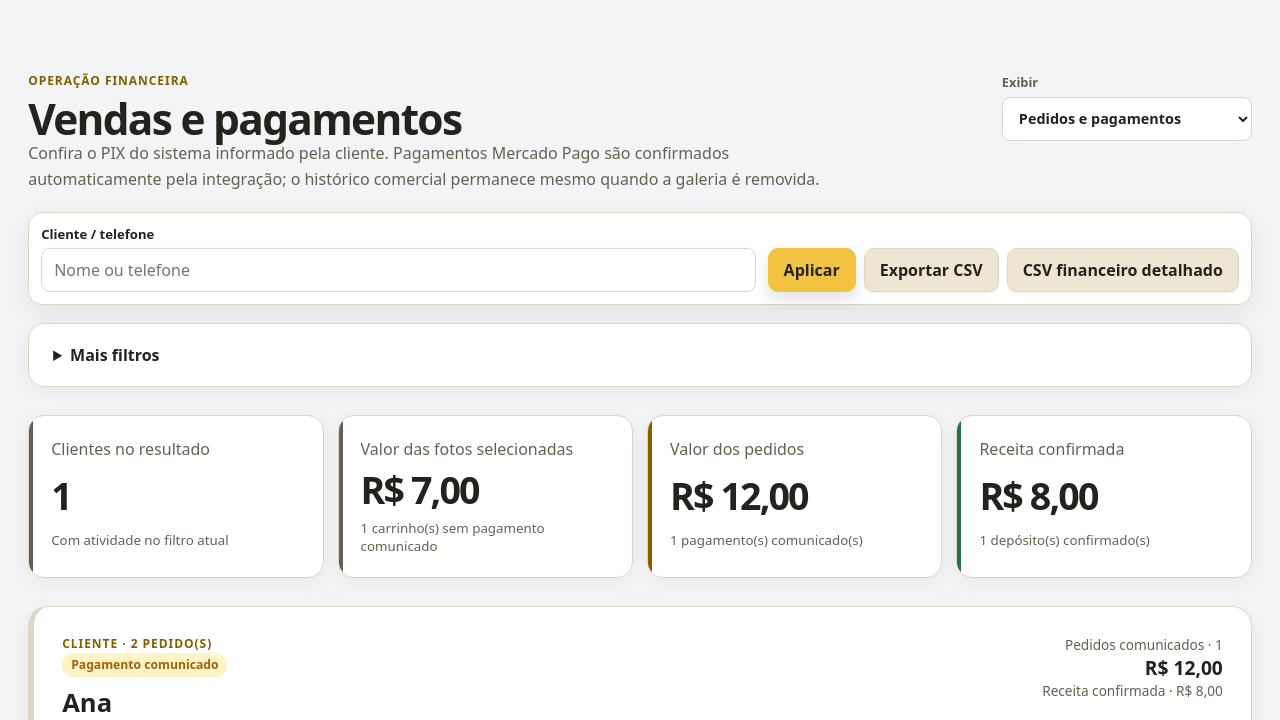
filtro de cliente com sugestões › seleciona sugestões pelo teclado, fecha com Escape e informa vazio ou erro
Expected: the heading "Ana" is shown, [62,685,112,719]
Type "Ma" into the dropdown labelled "Cliente / telefone" at (398, 270), box [41,248,756,292]
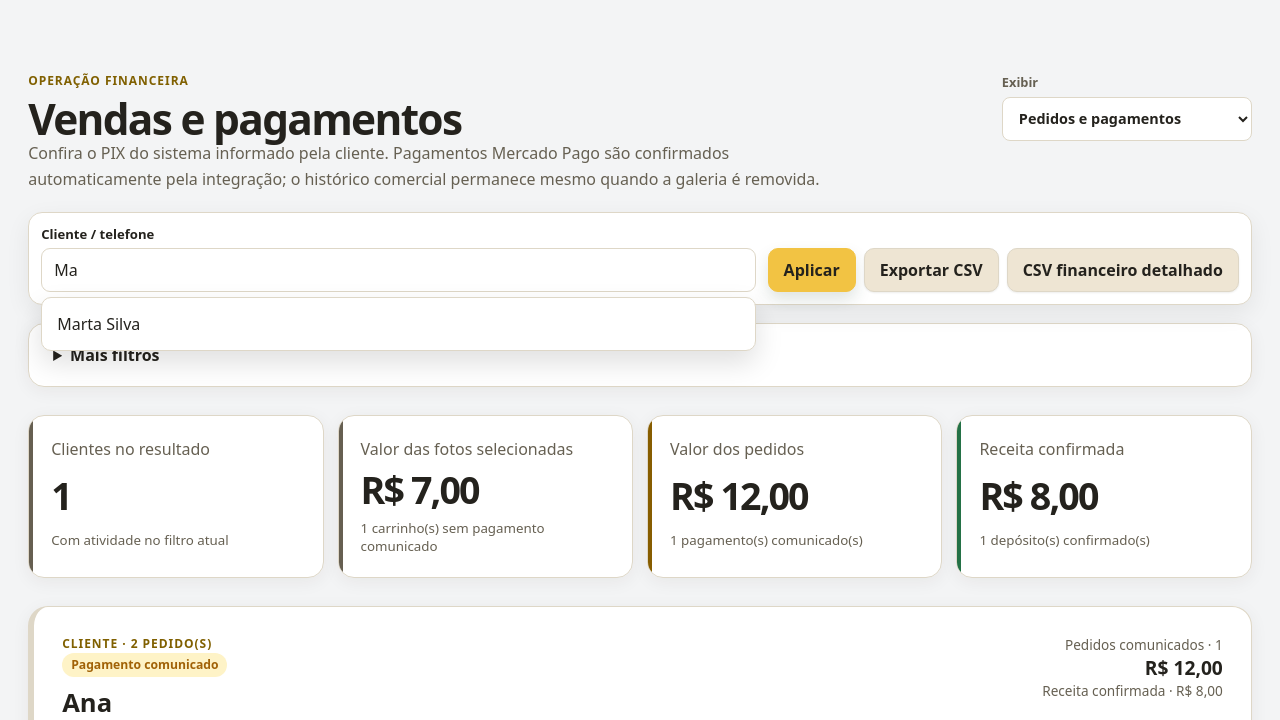
Now the option "Marta Silva" is shown, box [47,303,750,345]
Press ArrowDown in the dropdown labelled "Cliente / telefone", box [41,248,756,292]
Press Enter in the dropdown labelled "Cliente / telefone", box [41,248,756,292]
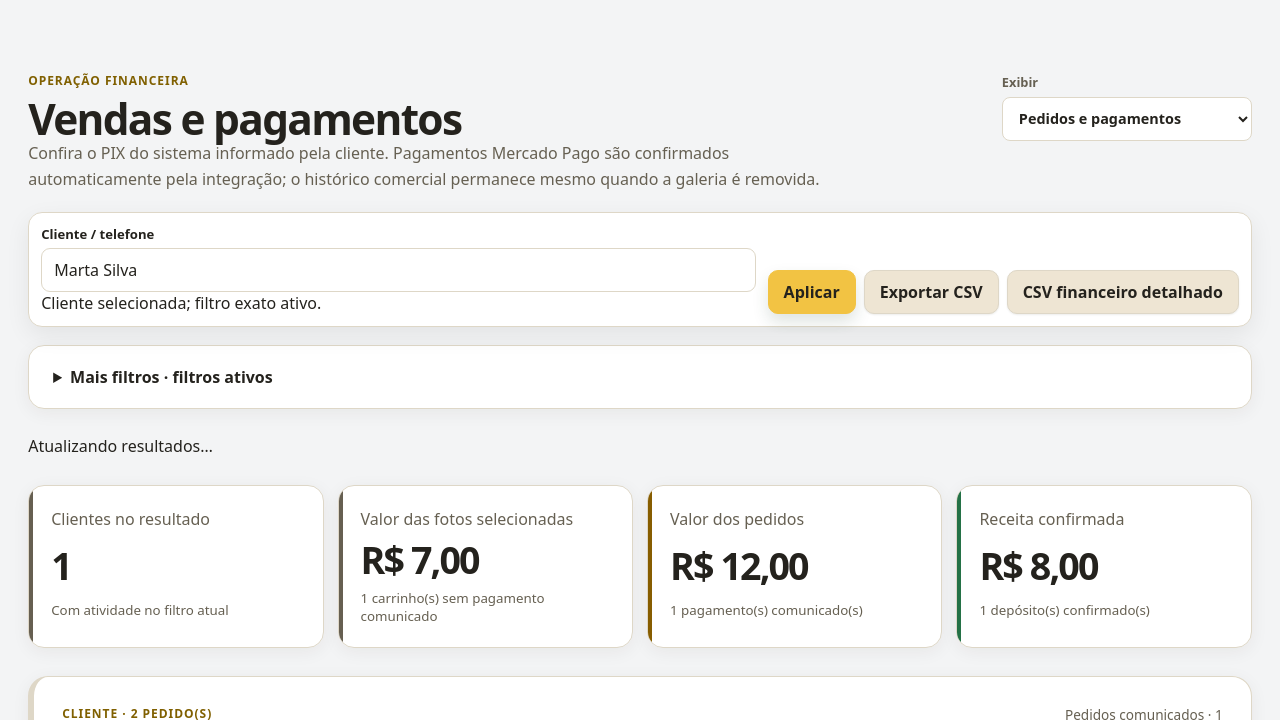
Now the dropdown labelled "Cliente / telefone" holds "Marta Silva"
Now the list is gone
Replace the text in the dropdown labelled "Cliente / telefone" with "Marta" at (398, 270), box [41,248,756,292]
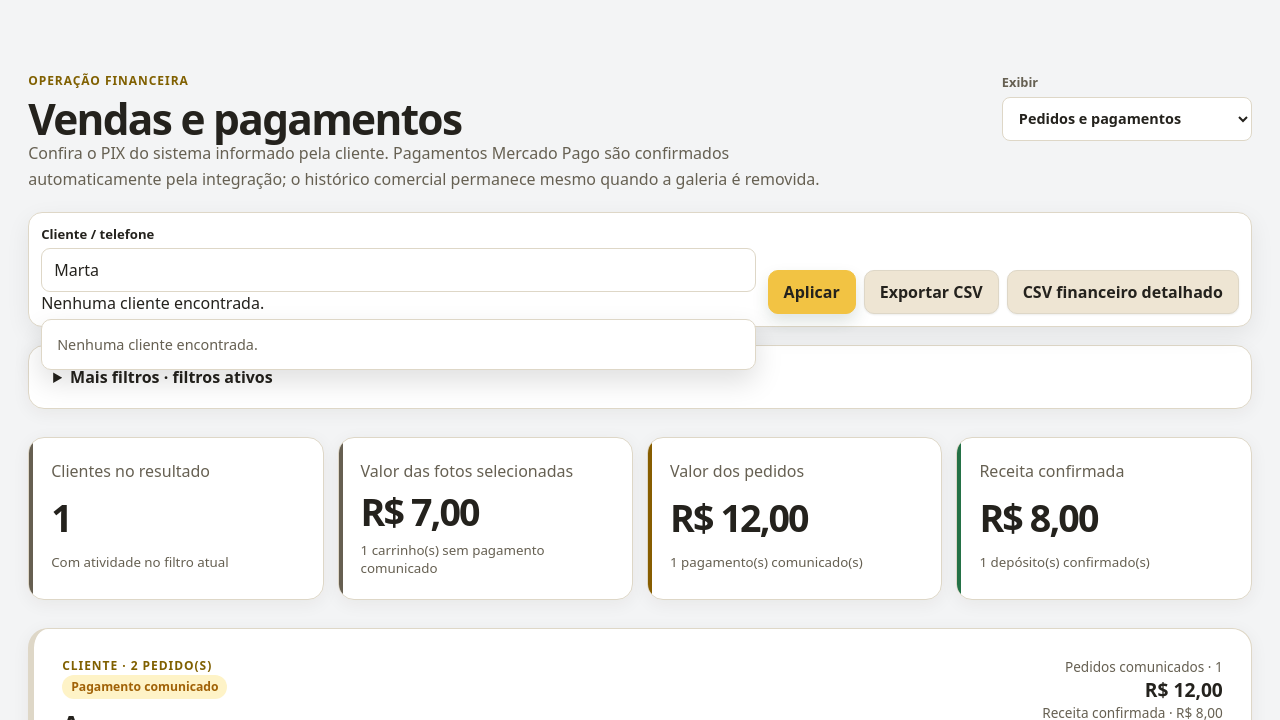
Now the option "Nenhuma cliente encontrada." is shown, box [57,335,258,354]
Press Escape in the dropdown labelled "Cliente / telefone", box [41,248,756,292]
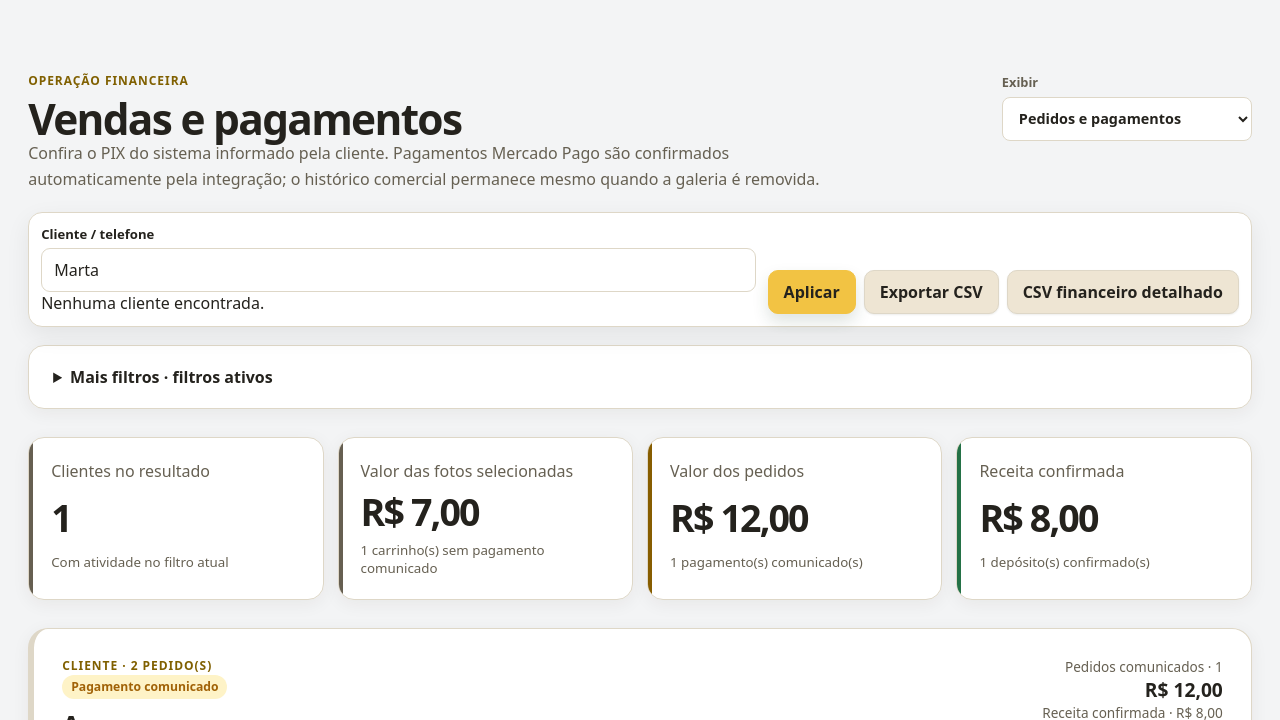
Now the list is gone
Replace the text in the dropdown labelled "Cliente / telefone" with "Erro" at (398, 270), box [41,248,756,292]
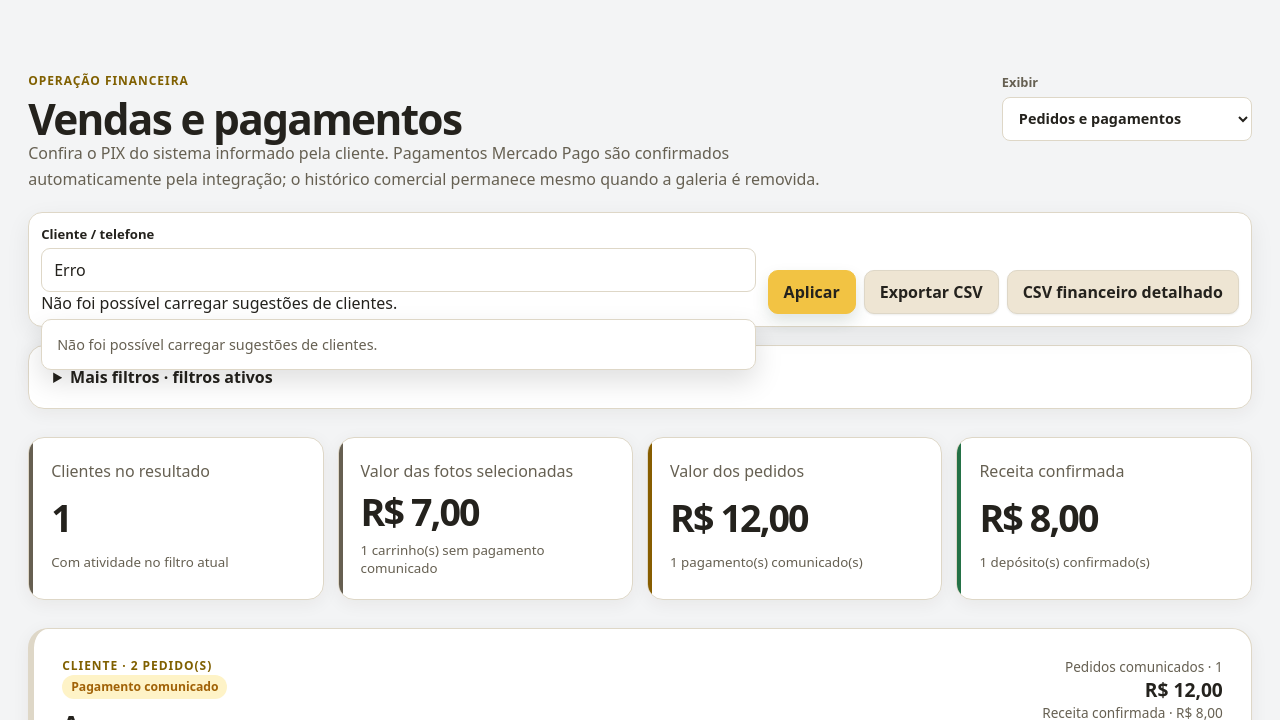
Now the option "Não foi possível carregar sugestões de clientes." is shown, box [57,335,377,354]
